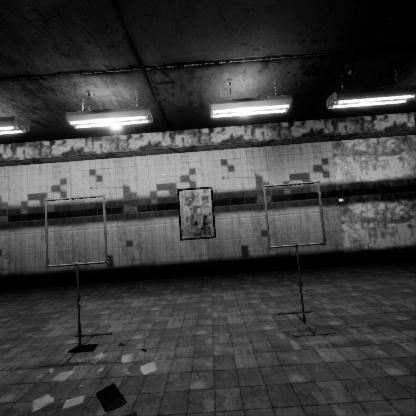gate: (45, 147, 114, 221), (262, 166, 331, 235)
